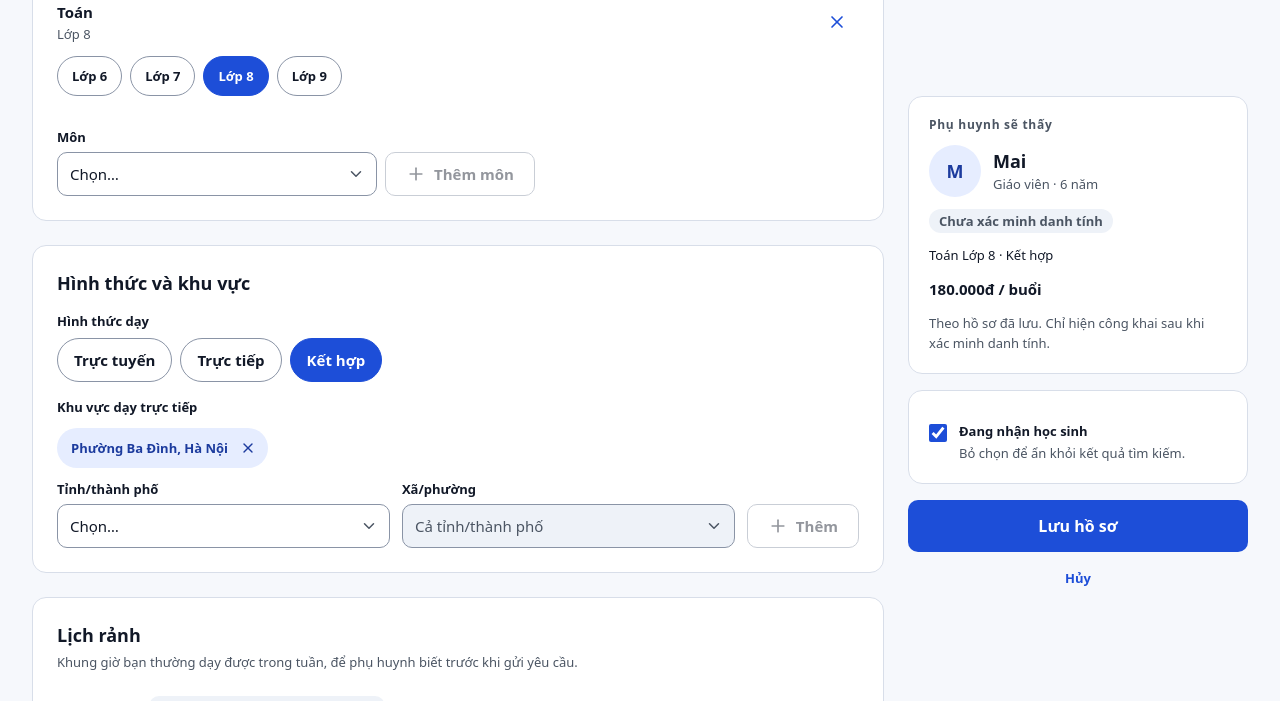
Scenario: edit tutor profile page › hides the service areas when the tutor teaches online only
(page scrolled)
Expected: the list item "Phường Ba Đình, Hà Nội" is shown, [57,428,268,468]
Click the radio button labelled "Trực tuyến": (115, 360) [57,338,172,382]
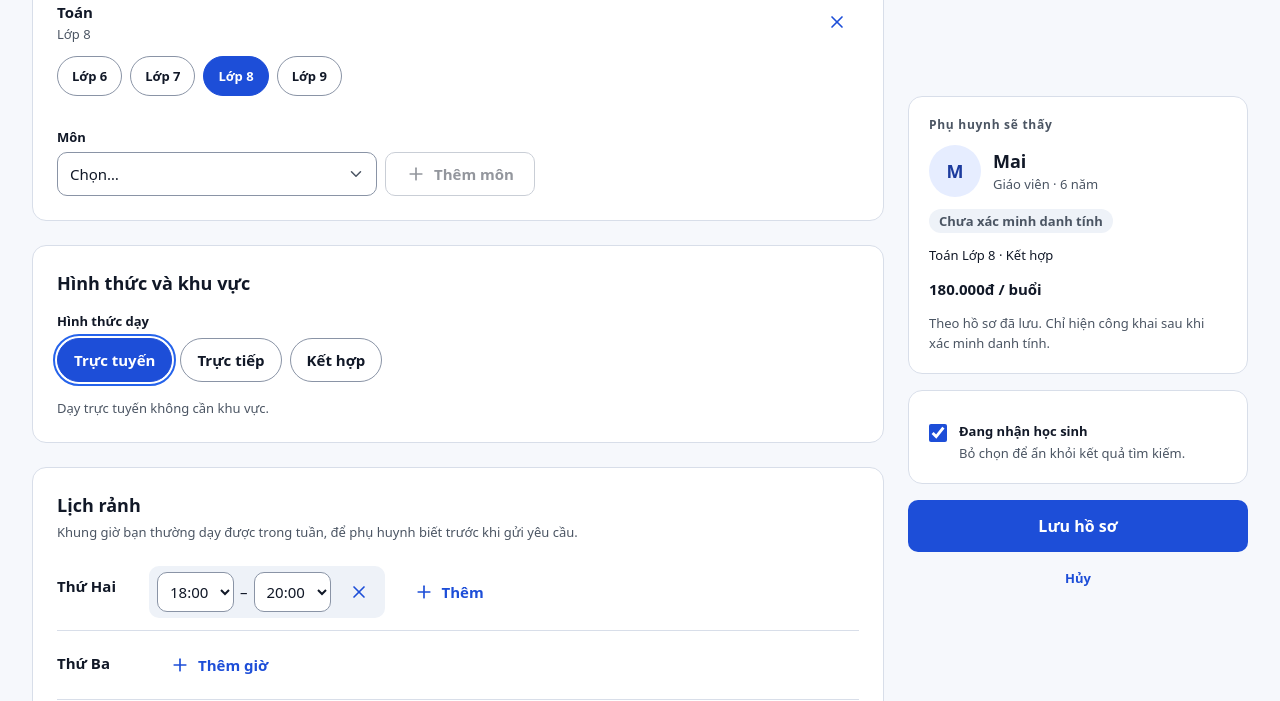
Expected: the list item "Phường Ba Đình, Hà Nội" is gone
Expected: the text "Dạy trực tuyến không cần khu vực." is shown, [57,399,269,417]
